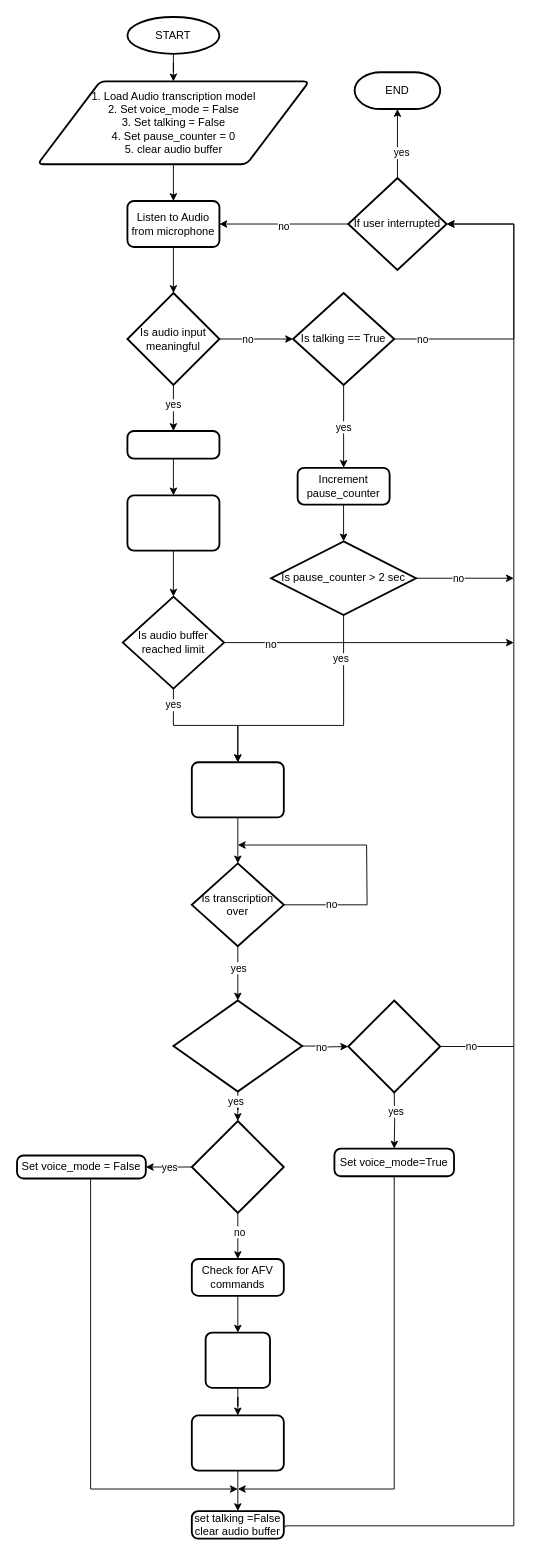
Some shapes in this 537 by 1555 pixel diagram are drawn without their labels. Here are the shapes that lost their labels. From the top down, the centre of each, then its label:
At [173,444]: "Set talking = True".
At [173,522]: "Collect audio chunks and append them to the audio buffer.".
At [237,789]: "send audio buffer data as input to the transcription model".
At [237,1045]: "is voice_mode == True".
At [394,1046]: "Check for voice_mode activation keywords".
At [237,1166]: "Check for voice_mode deactivation keywords".
At [237,1359]: "Respond to command activation by speech".
At [237,1442]: "Send command code to AFV console through Ethernet interface".
